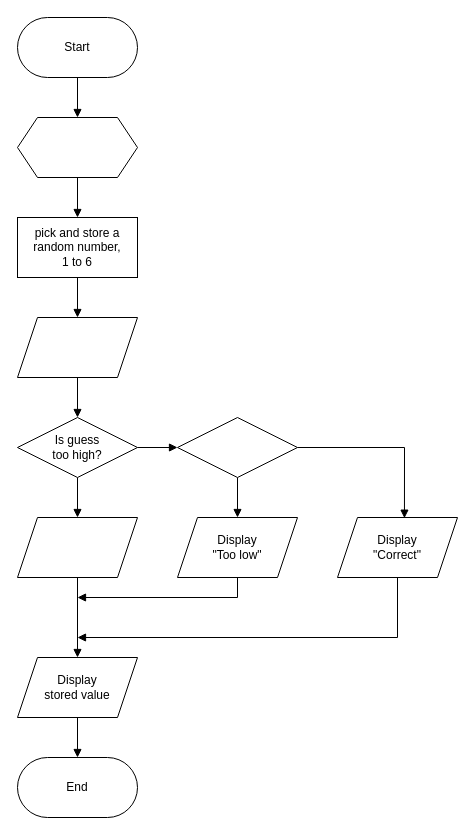
Some shapes in this 475 by 835 pixel diagram are drawn without their labels. The shapes that lost their labels are listed below. From the top down, each one's centre as x and y in pixels, then its label:
[77,147]: Initialise variables
[77,347]: Get valid guess from player
[237,447]: Is guess too low?
[77,547]: Display "Too high"
